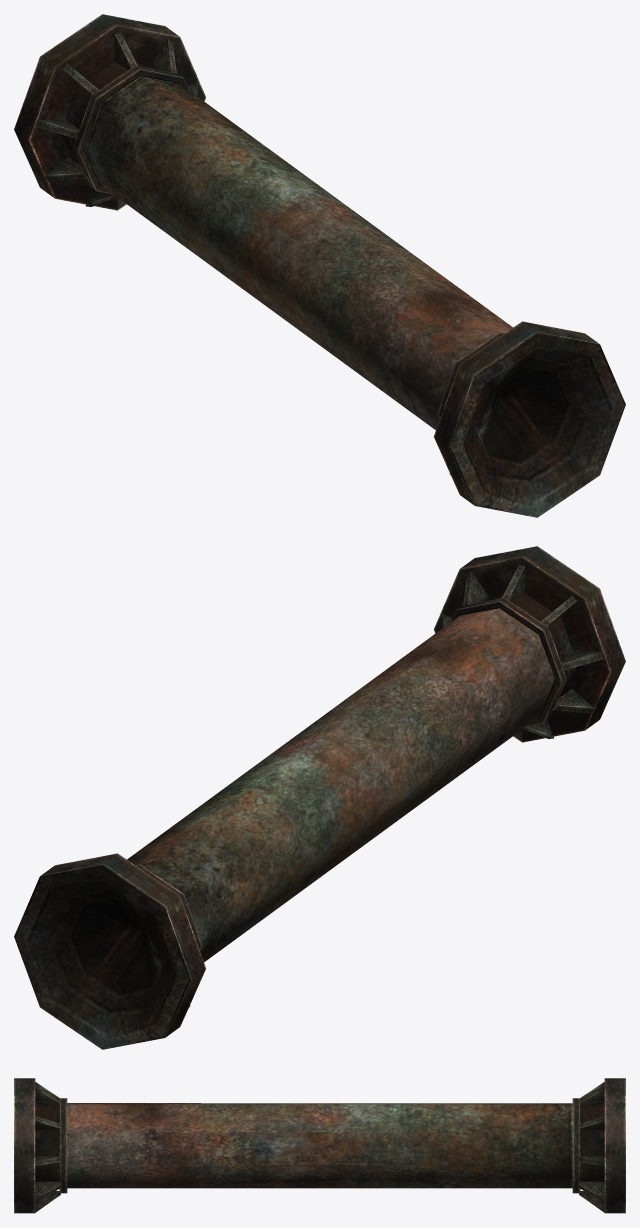
File: pipe_large2_short_pplant.dae
The picture shows the model from 3 angles, top to bottom: view 1: azimuth 30°, elevation 25°; view 2: azimuth 150°, elevation 25°; view 3: azimuth 270°, elevation 25°; orthographic projection. The views are drawn at different scales.
Parts seen in each view (by area): view 1: pipe_large2_short_pplant__2_; view 2: pipe_large2_short_pplant__2_; view 3: pipe_large2_short_pplant__2_.
Part boxes in pixels (box(x1,y1,x2,y2)): pipe_large2_short_pplant__2_: box(14, 14, 625, 517); pipe_large2_short_pplant__2_: box(14, 546, 625, 1049); pipe_large2_short_pplant__2_: box(14, 1078, 625, 1213).
Bounding box in the file's own units: 0.4703 × 0.4703 × 2.
